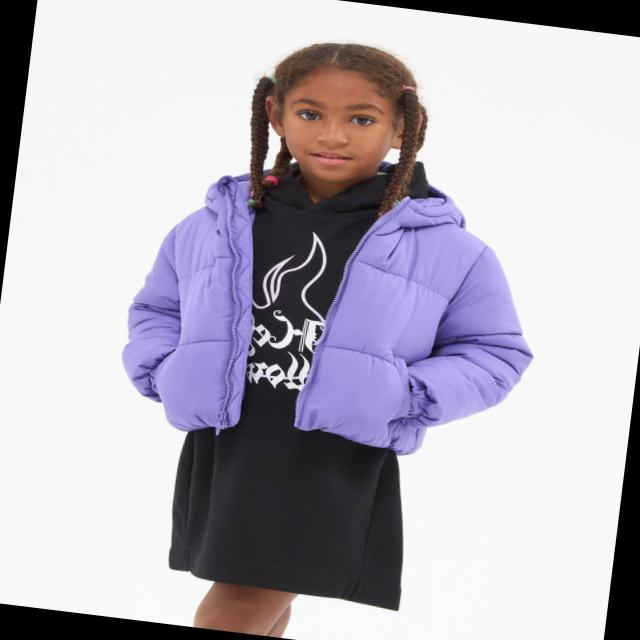Jacket: (54, 130, 576, 500)
